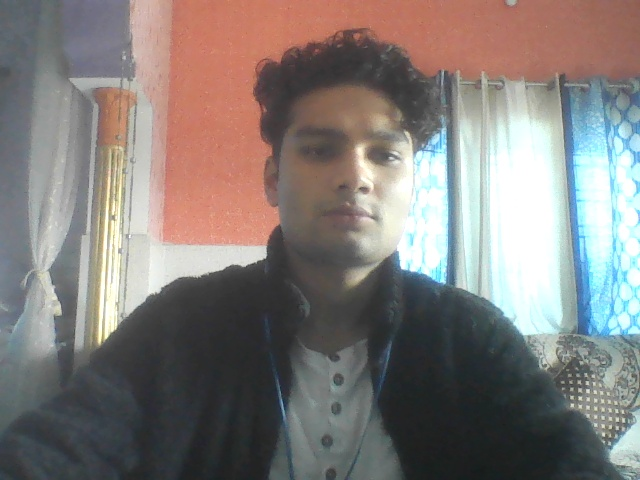real: (254, 36, 423, 275)
